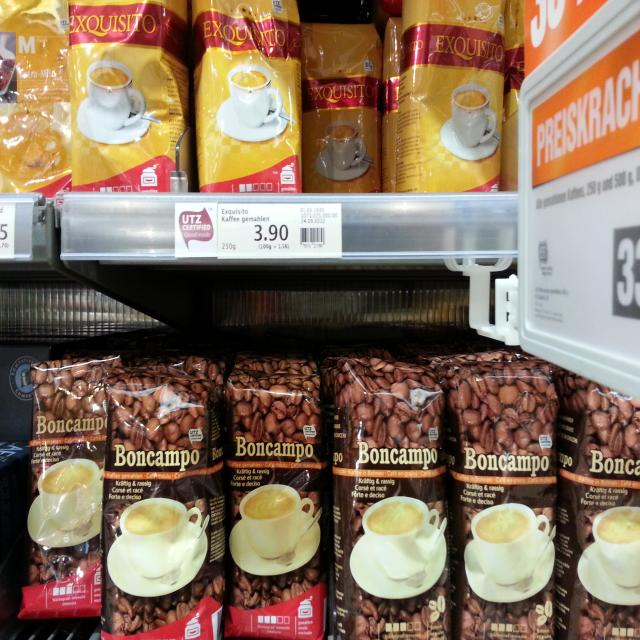Coffee: (99, 368, 224, 640), (336, 366, 456, 640), (445, 365, 563, 640), (215, 385, 328, 640), (68, 0, 195, 197), (390, 0, 503, 200), (20, 361, 106, 623), (564, 368, 640, 640), (198, 1, 303, 197), (0, 0, 73, 193), (304, 27, 378, 193)
